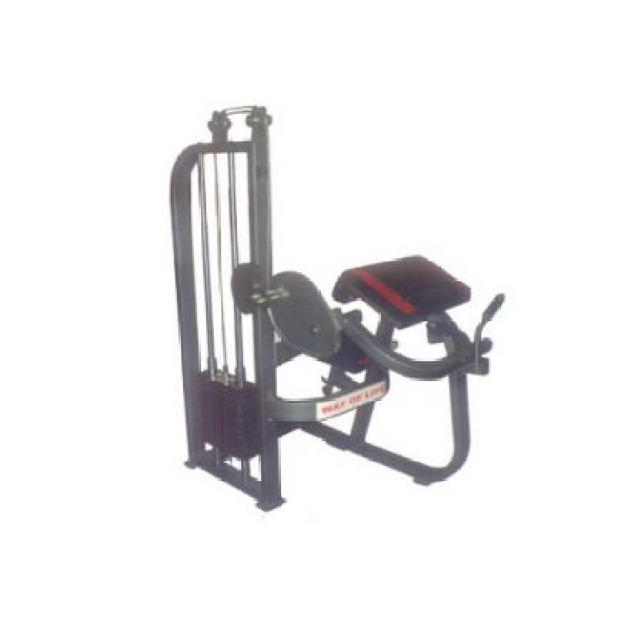arm curl machine: (169, 103, 506, 514)
